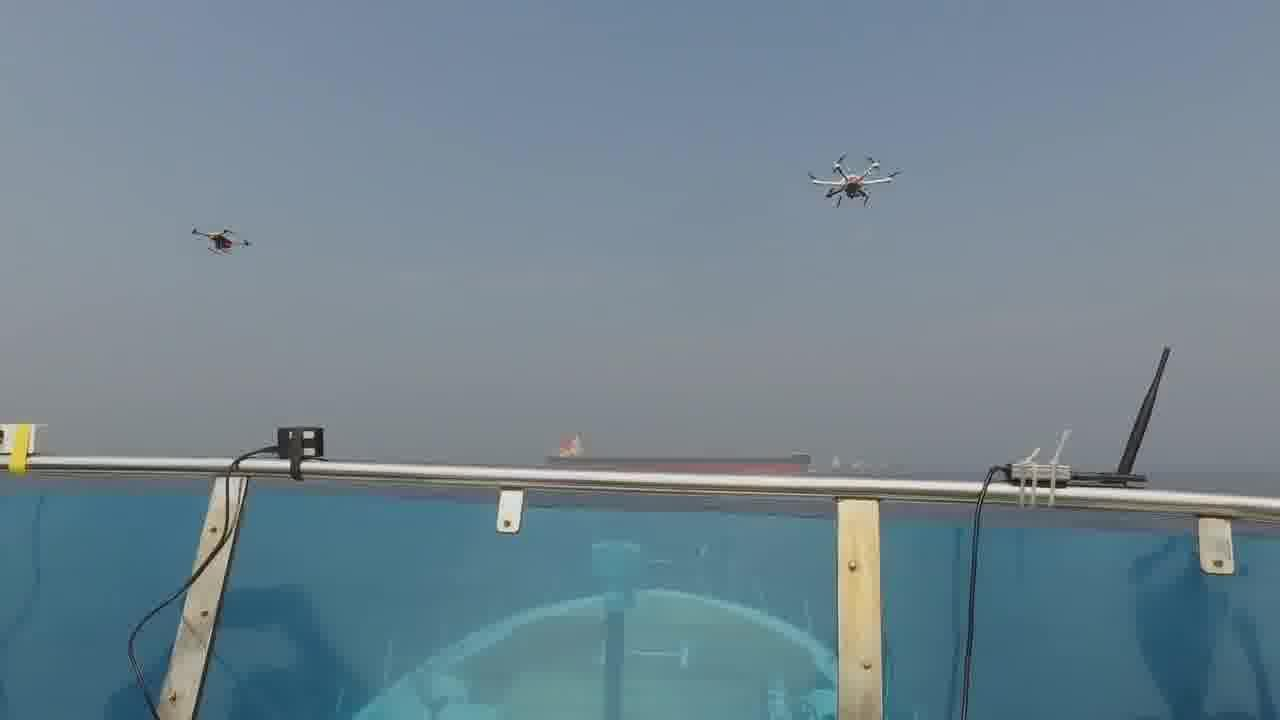drone: (792, 138, 917, 221), (186, 214, 266, 266)
